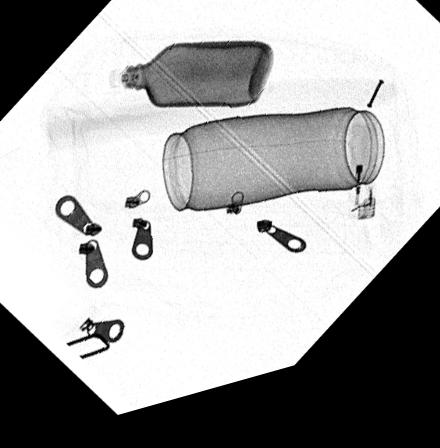Lighter: (348, 142, 377, 240)
